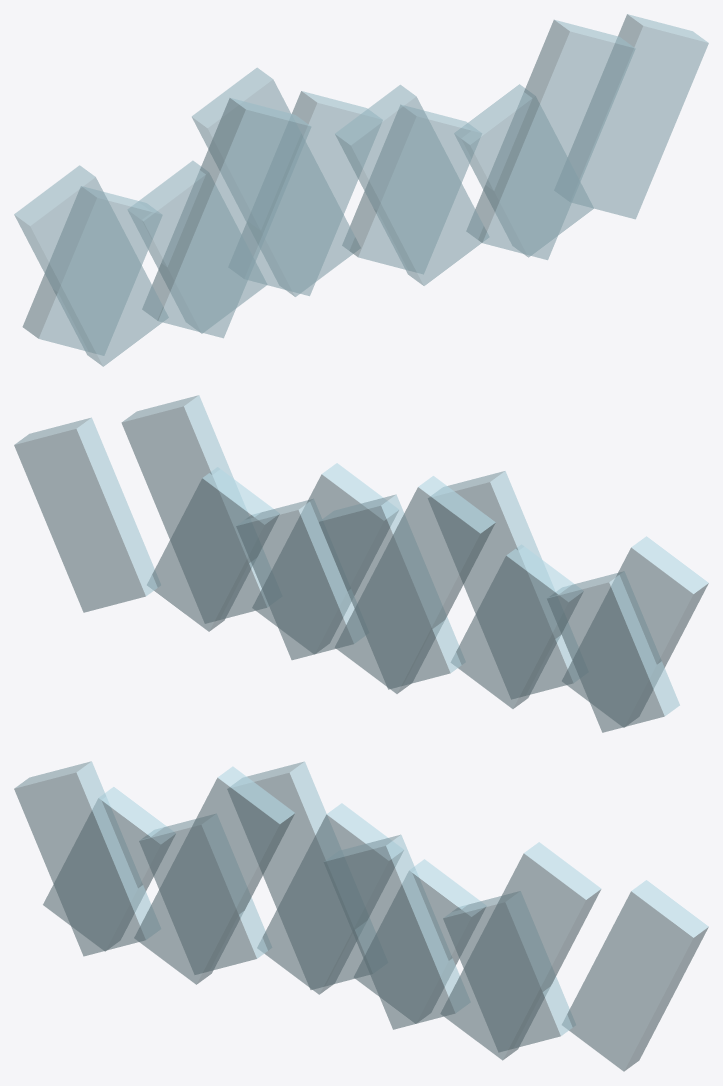
The model's file is alpine-and-arctic-biomes-pressure-ridge-2d187480__21047.glb.
3 views of the same model, one above another, from view 1: azimuth 30°, elevation 25°; view 2: azimuth 150°, elevation 25°; view 3: azimuth 330°, elevation 25° (orthographic). The views are drawn at different scales.
Visible parts, largest first — view 1: pressure-ridge; view 2: pressure-ridge; view 3: pressure-ridge.
Part boxes in pixels (x1,y1,x2,y2): pressure-ridge: [14, 14, 708, 366]; pressure-ridge: [14, 395, 708, 732]; pressure-ridge: [14, 761, 708, 1071].
Size of the model in its own units: 6.21 by 1.9 by 0.6397.
